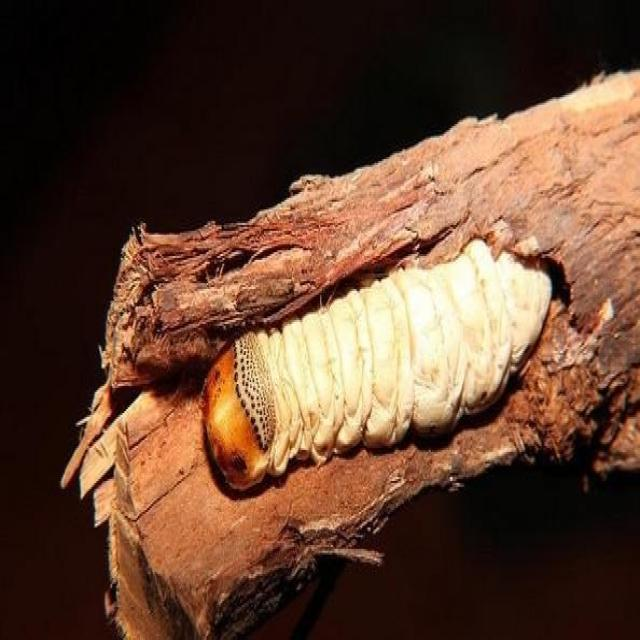grub: (205, 245, 569, 495)
